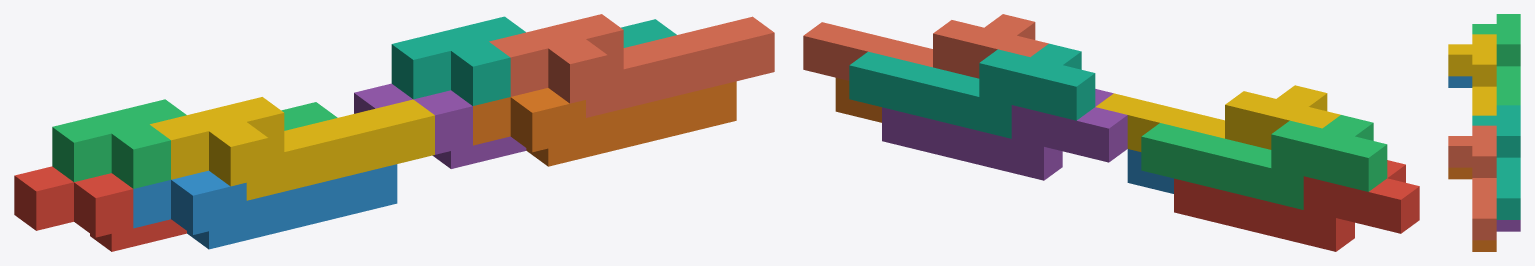
File: tiling.obj
3 renders of one model, left to right at view 1: azimuth 30°, elevation 25°; view 2: azimuth 150°, elevation 25°; view 3: azimuth 270°, elevation 25°, orthographic. The views are drawn at different scales.
Parts seen in each view (by area): view 1: copy_1_domain_8, copy_1_domain_4, copy_1_domain_2, copy_1_domain_6, copy_1_domain_7, copy_1_domain_3, copy_1_domain_1, copy_1_domain_5; view 2: copy_1_domain_3, copy_1_domain_7, copy_1_domain_1, copy_1_domain_5, copy_1_domain_8, copy_1_domain_4, copy_1_domain_2, copy_1_domain_6; view 3: copy_1_domain_8, copy_1_domain_7, copy_1_domain_4, copy_1_domain_3, copy_1_domain_6, copy_1_domain_2, copy_1_domain_5.
Part boxes in pixels (left/top/right/bottom): copy_1_domain_8: left=489, top=14, right=774, bottom=117; copy_1_domain_4: left=150, top=97, right=434, bottom=200; copy_1_domain_2: left=133, top=164, right=397, bottom=249; copy_1_domain_6: left=473, top=81, right=736, bottom=166; copy_1_domain_7: left=391, top=16, right=676, bottom=105; copy_1_domain_3: left=52, top=99, right=337, bottom=188; copy_1_domain_1: left=14, top=166, right=186, bottom=251; copy_1_domain_5: left=354, top=83, right=526, bottom=168; copy_1_domain_3: left=1141, top=115, right=1387, bottom=209; copy_1_domain_7: left=849, top=43, right=1095, bottom=138; copy_1_domain_1: left=1174, top=160, right=1419, bottom=251; copy_1_domain_5: left=882, top=89, right=1127, bottom=180; copy_1_domain_8: left=803, top=14, right=1048, bottom=80; copy_1_domain_4: left=1096, top=85, right=1340, bottom=151; copy_1_domain_2: left=1127, top=149, right=1173, bottom=193; copy_1_domain_6: left=835, top=78, right=881, bottom=122; copy_1_domain_8: left=1448, top=125, right=1496, bottom=240; copy_1_domain_7: left=1472, top=105, right=1520, bottom=219; copy_1_domain_4: left=1448, top=34, right=1496, bottom=115; copy_1_domain_3: left=1472, top=14, right=1520, bottom=105; copy_1_domain_6: left=1448, top=167, right=1496, bottom=251; copy_1_domain_2: left=1448, top=76, right=1472, bottom=87; copy_1_domain_5: left=1496, top=220, right=1520, bottom=231.
Bounding box in the file's own units: 19 × 3 × 3.
